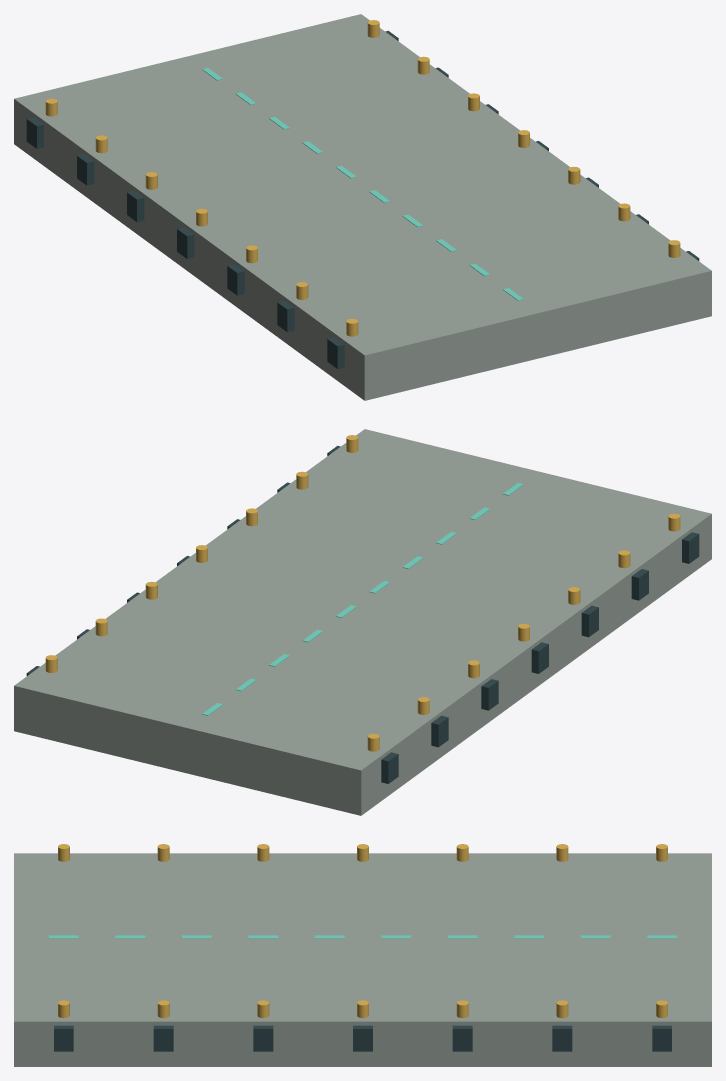
The model's file is smart-quay.glb.
3 renders of one model, top to bottom at view 1: azimuth 30°, elevation 25°; view 2: azimuth 150°, elevation 25°; view 3: azimuth 270°, elevation 25°, orthographic.
Parts seen in each view (by area): view 1: smart-quay; view 2: smart-quay; view 3: smart-quay (×8).
Boxes of the visible parts, x1,y1,x2,y2 form: smart-quay: (14,14,711,400); smart-quay: (14,429,711,815); smart-quay (×8): (14,853,711,1066).
Bounding box in the file's own units: 12.5 × 1.92 × 21.
